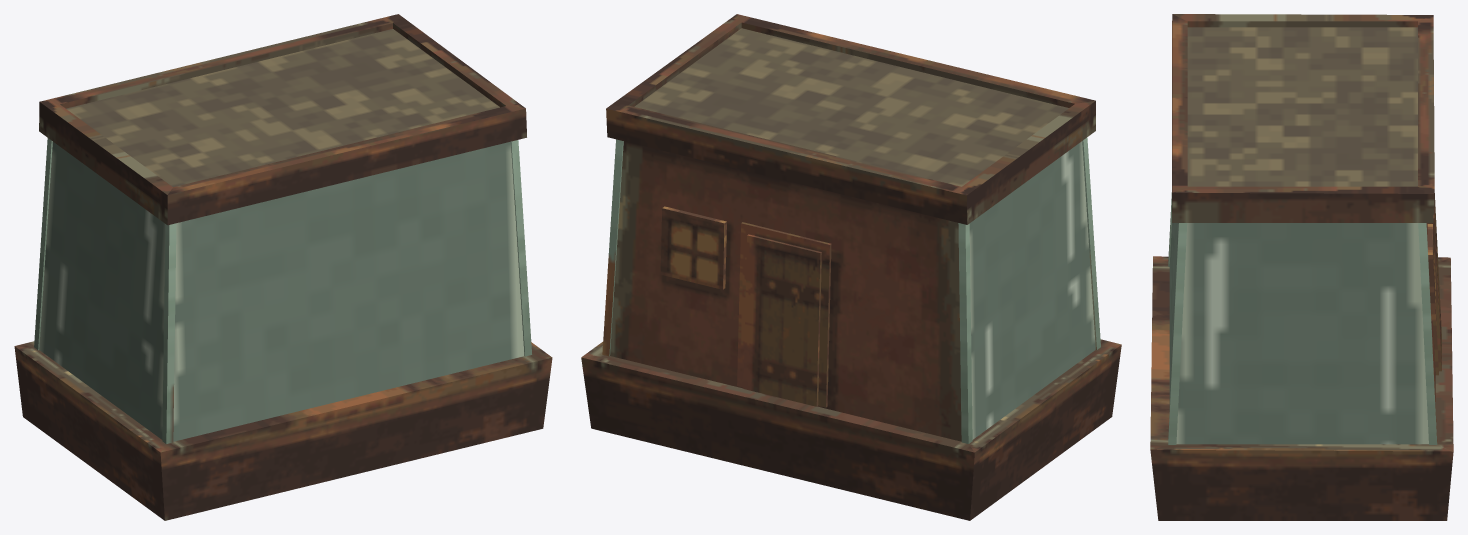
The model's file is CI21_InvertedFarm.fbx.
3 renders of one model, left to right at view 1: azimuth 30°, elevation 25°; view 2: azimuth 150°, elevation 25°; view 3: azimuth 270°, elevation 25°, orthographic.
Visible parts, largest first — view 1: CI21_InvertedFarm; view 2: CI21_InvertedFarm; view 3: CI21_InvertedFarm.
Boxes of the visible parts, x1=… form: CI21_InvertedFarm: x1=14, y1=14, x2=552, y2=520; CI21_InvertedFarm: x1=581, y1=14, x2=1121, y2=520; CI21_InvertedFarm: x1=1150, y1=14, x2=1453, y2=520.
Size of the model in its own units: 0.2519 by 0.1955 by 0.1659.
Materials: 2 (2 with a texture image).
